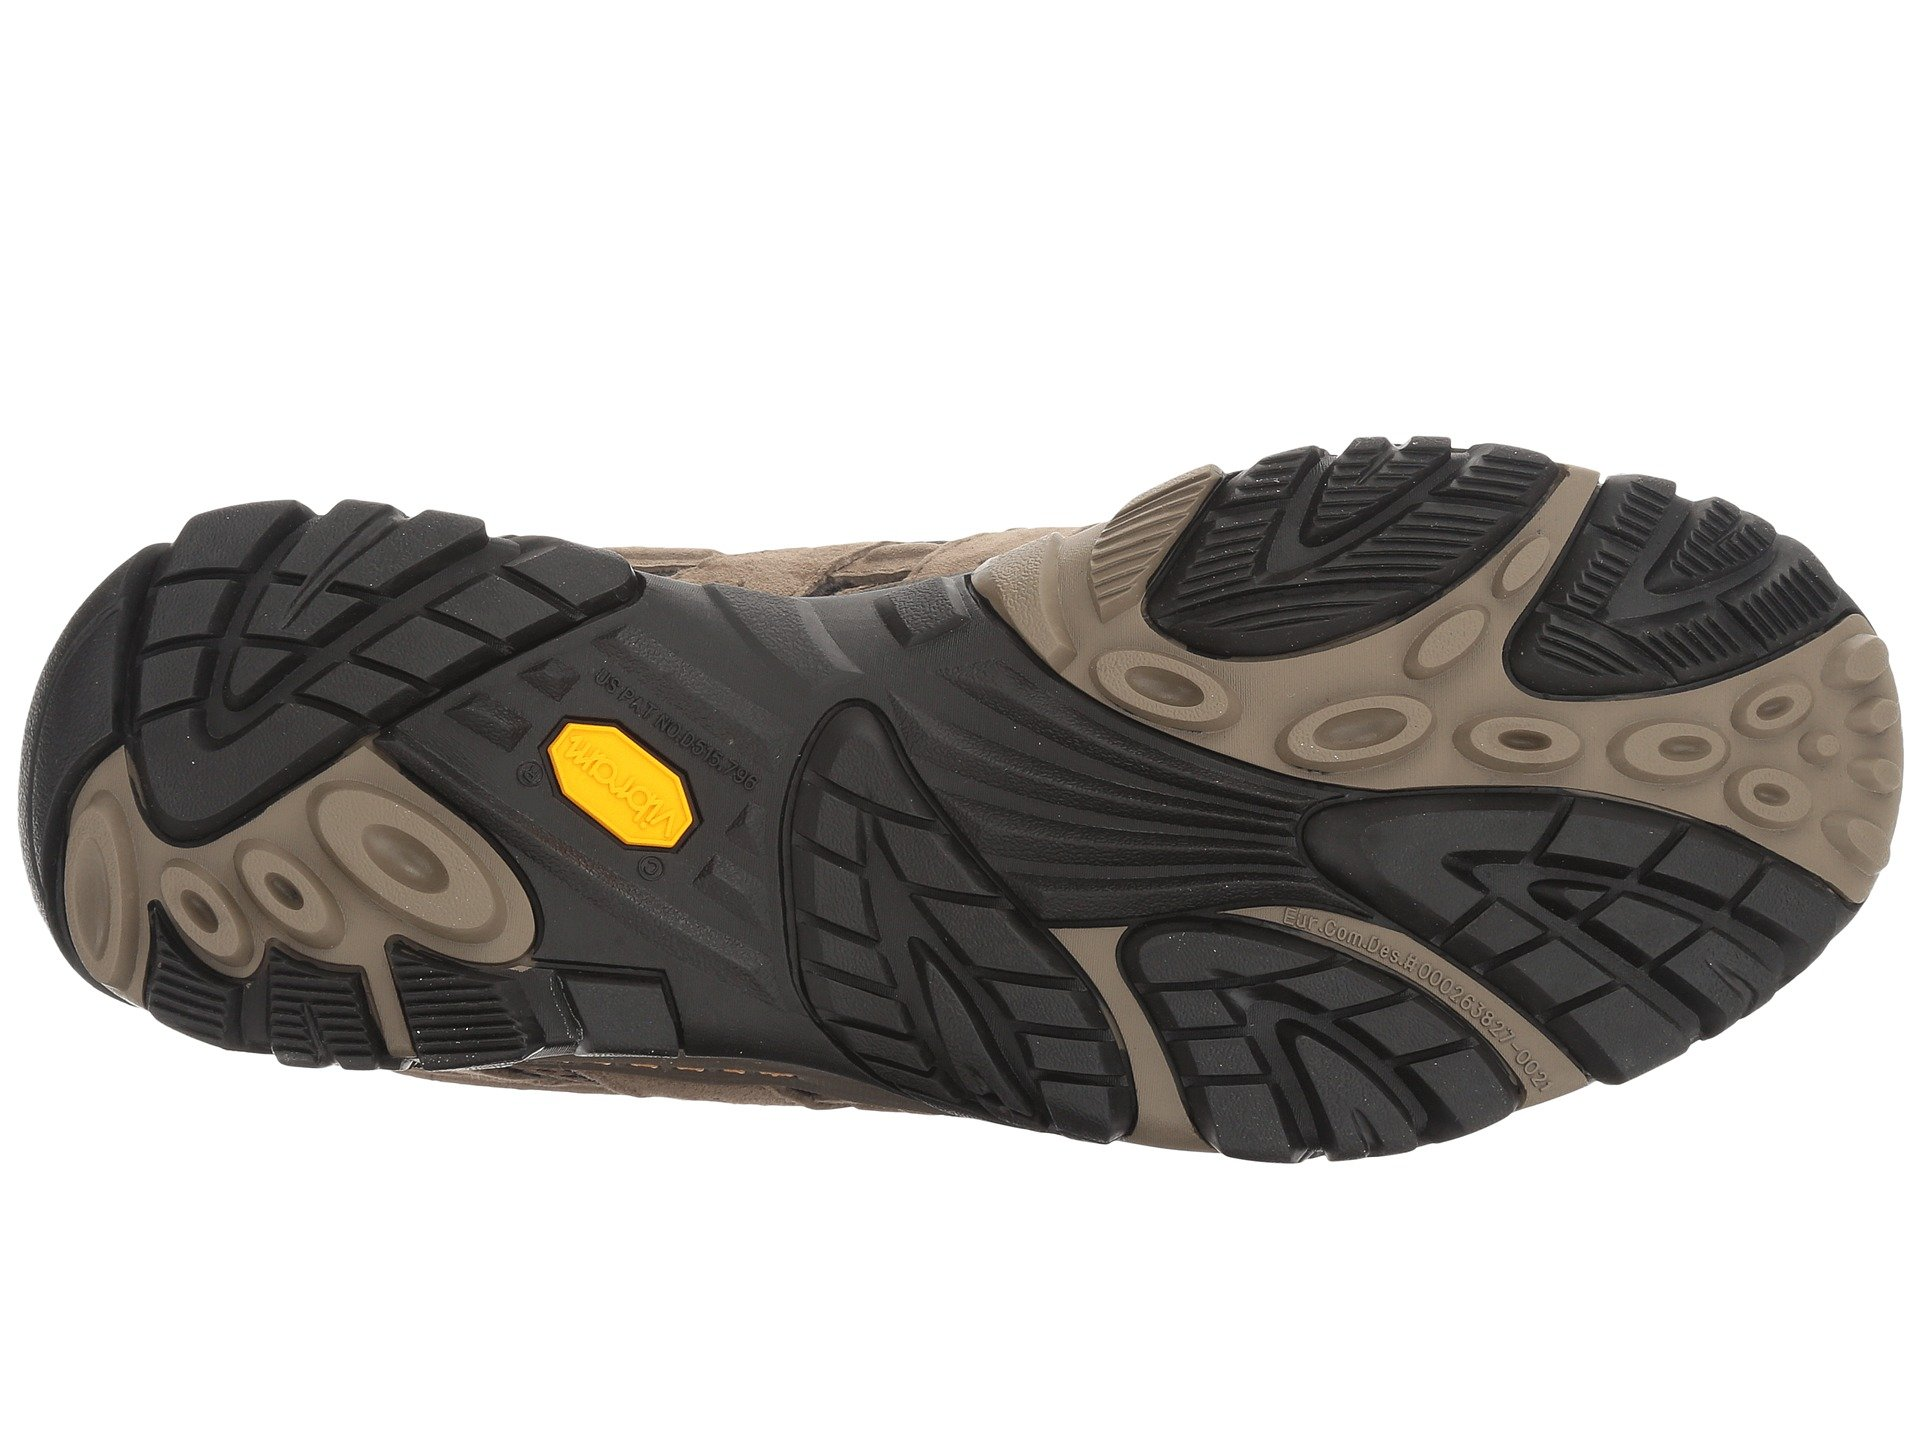circle: (1683, 268, 1870, 439), (268, 345, 441, 501), (125, 402, 252, 543), (1321, 200, 1480, 310)
quad: (1125, 519, 1388, 691), (166, 135, 364, 315), (1476, 369, 1674, 545), (777, 355, 957, 543), (404, 123, 552, 254)
text: (547, 312, 626, 384)
